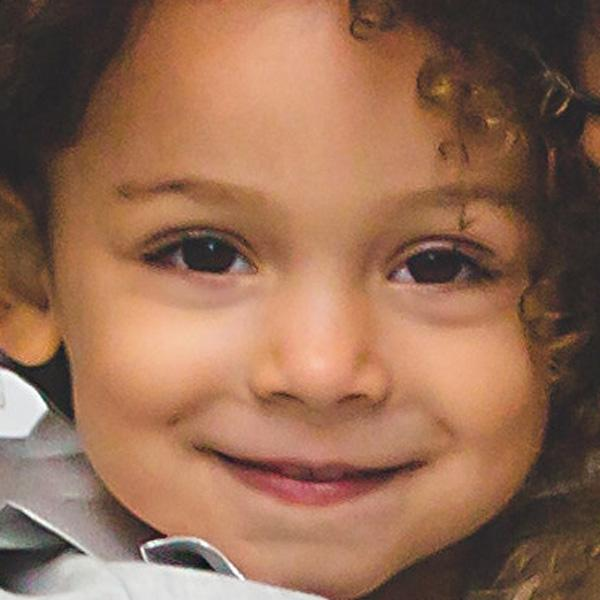Eyes: (127, 212, 266, 291), (376, 228, 506, 306)
